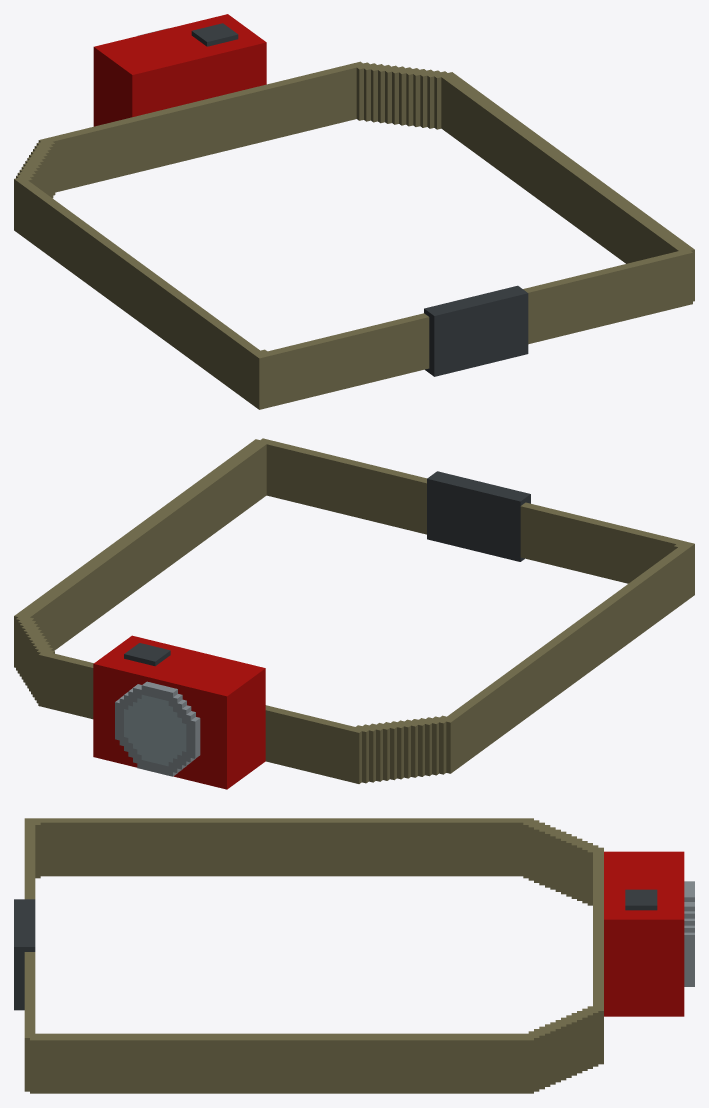
The model's file is headlamp.glb.
3 views of the same model, one above another, from view 1: azimuth 30°, elevation 25°; view 2: azimuth 150°, elevation 25°; view 3: azimuth 270°, elevation 25° (orthographic). The views are drawn at different scales.
Parts seen in each view (by area): view 1: equipment:headlamp; view 2: equipment:headlamp; view 3: equipment:headlamp.
Boxes of the visible parts, x1,y1,x2,y2 form: equipment:headlamp: [14, 14, 694, 409]; equipment:headlamp: [14, 438, 694, 789]; equipment:headlamp: [14, 818, 694, 1093].
Bounding box in the file's own units: 0.196 × 0.044 × 0.254.
